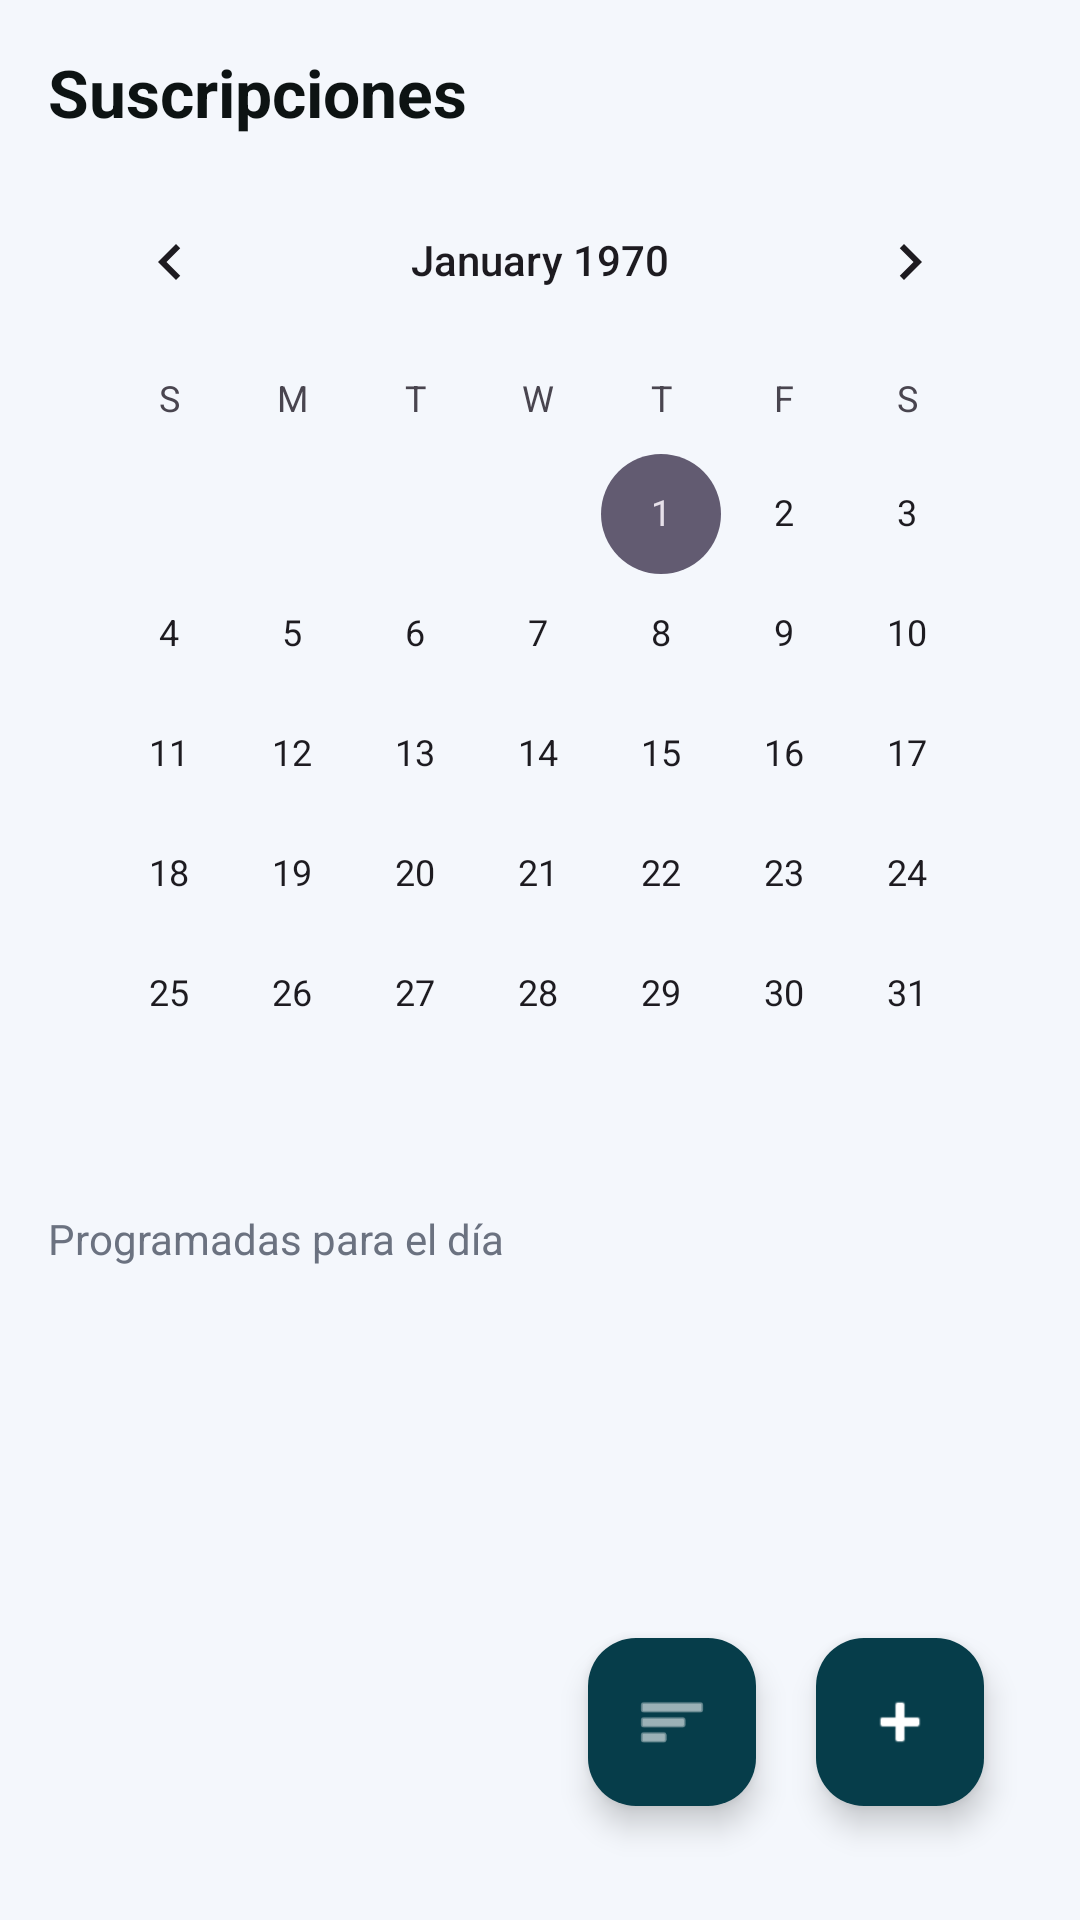

Where to tap for icons on this 1080w x 1920h app screen, as (x=x, y=y):
Agregar suscripción: (x=901, y=1730)
